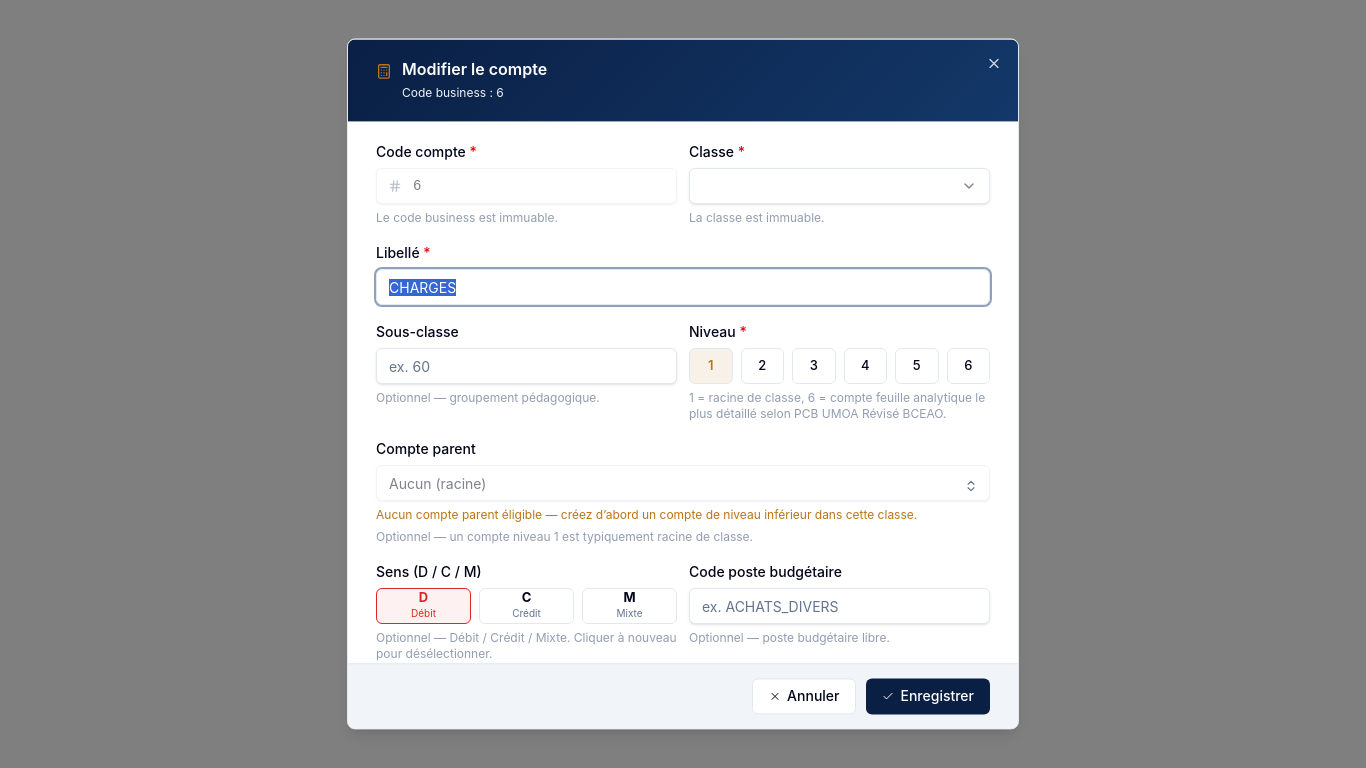
it: CompteFormDrawer › mode edit : bandeau SCD2 jaune apparaît après modification libellé
Expected: the text "SCD2 — Modification d'attribut historisé" is not shown
Replace the text in the field labelled "Libellé *" with "CHARGES (rénové)" at (683, 287), box left=376, top=269, right=990, bottom=305
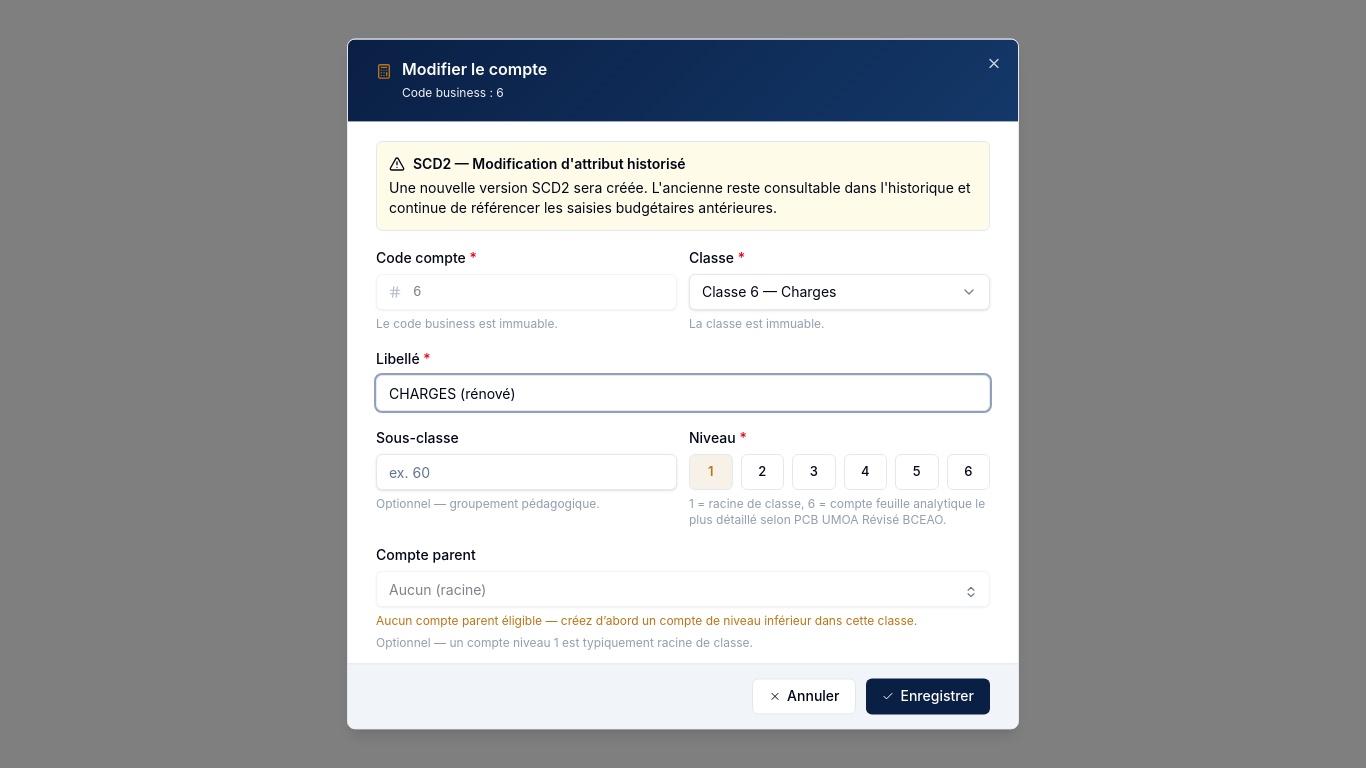
Now the text "SCD2 — Modification d'attribut historisé" is shown, box left=389, top=155, right=686, bottom=172
